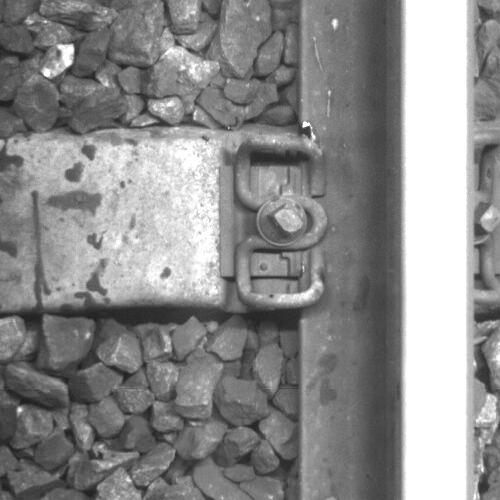rail: (402, 1, 474, 500)
tie_concr: (1, 139, 296, 303)
vossloh: (219, 134, 330, 309)
